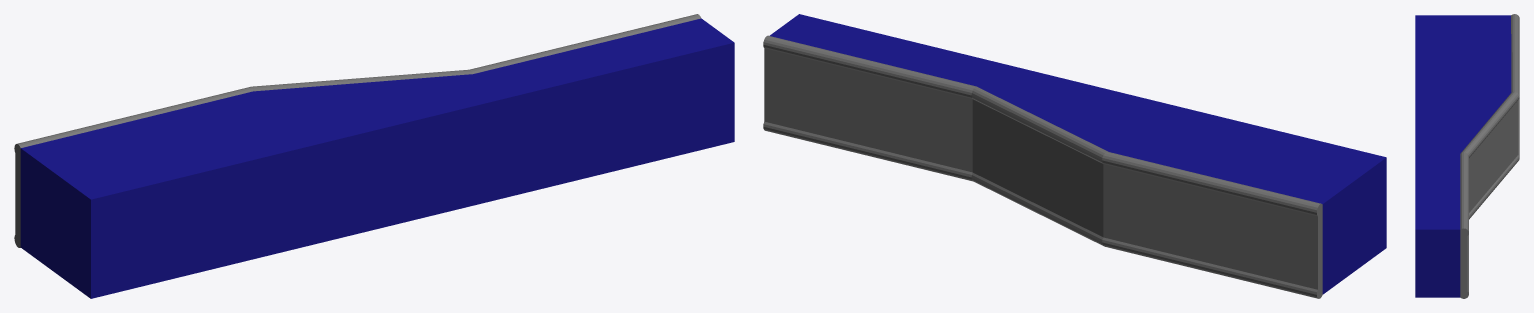
The model's file is Rail-Box Step-Down.fbx.
The picture shows the model from 3 angles, left to right: view 1: azimuth 30°, elevation 25°; view 2: azimuth 150°, elevation 25°; view 3: azimuth 270°, elevation 25°; orthographic projection. The views are drawn at different scales.
Visible parts, largest first — view 1: Rail-Box Step-Down; view 2: Rail-Box Step-Down; view 3: Rail-Box Step-Down.
Boxes of the visible parts, <box> form: Rail-Box Step-Down: <box>14,14,734,298</box>; Rail-Box Step-Down: <box>763,14,1386,298</box>; Rail-Box Step-Down: <box>1415,14,1519,298</box>.
Size of the model in its own units: 1000 by 153 by 206.
